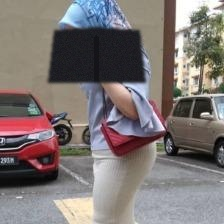Cadar_Niqab: (48, 0, 145, 82)
